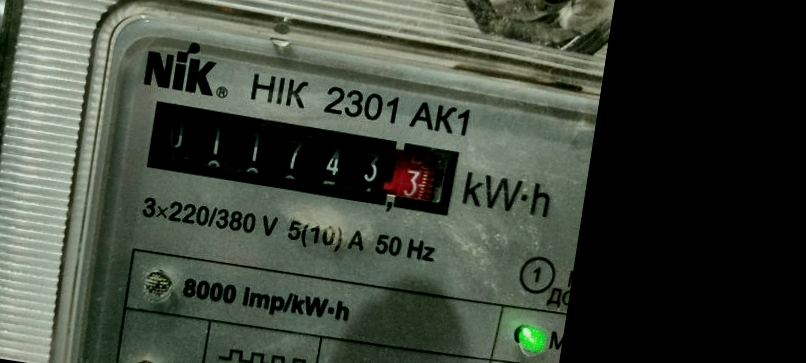0: (163, 113, 187, 152)
1: (245, 127, 265, 163), (208, 121, 223, 155)
3: (357, 147, 381, 185), (399, 166, 422, 201)
4: (320, 142, 342, 178)
7: (282, 135, 305, 171)
screen: (129, 86, 473, 230)
